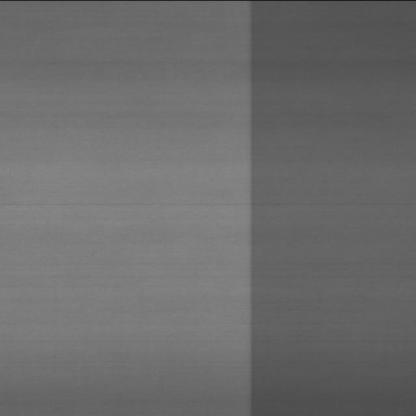welding_line: (235, 0, 274, 413)
